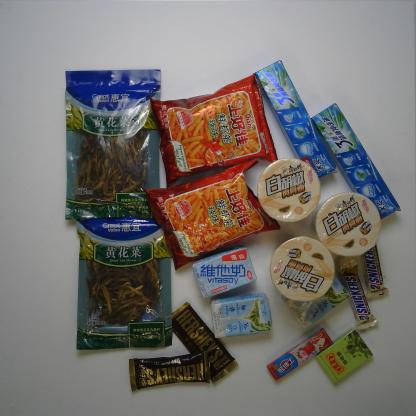Candy: (314, 324, 376, 388), (266, 327, 336, 383)
Chocolate: (166, 298, 240, 387), (126, 349, 213, 394), (334, 252, 380, 334), (358, 237, 392, 303)
Dried Food: (56, 64, 167, 225), (70, 212, 178, 354)
Instant Noodles: (313, 189, 384, 259), (268, 233, 338, 303), (255, 155, 323, 225)
Milk: (280, 264, 354, 338), (190, 243, 260, 302), (207, 290, 275, 343)
Personal Hygiene: (306, 100, 404, 223), (251, 57, 339, 186)
Puffed Food: (146, 70, 285, 192), (143, 158, 283, 274)
